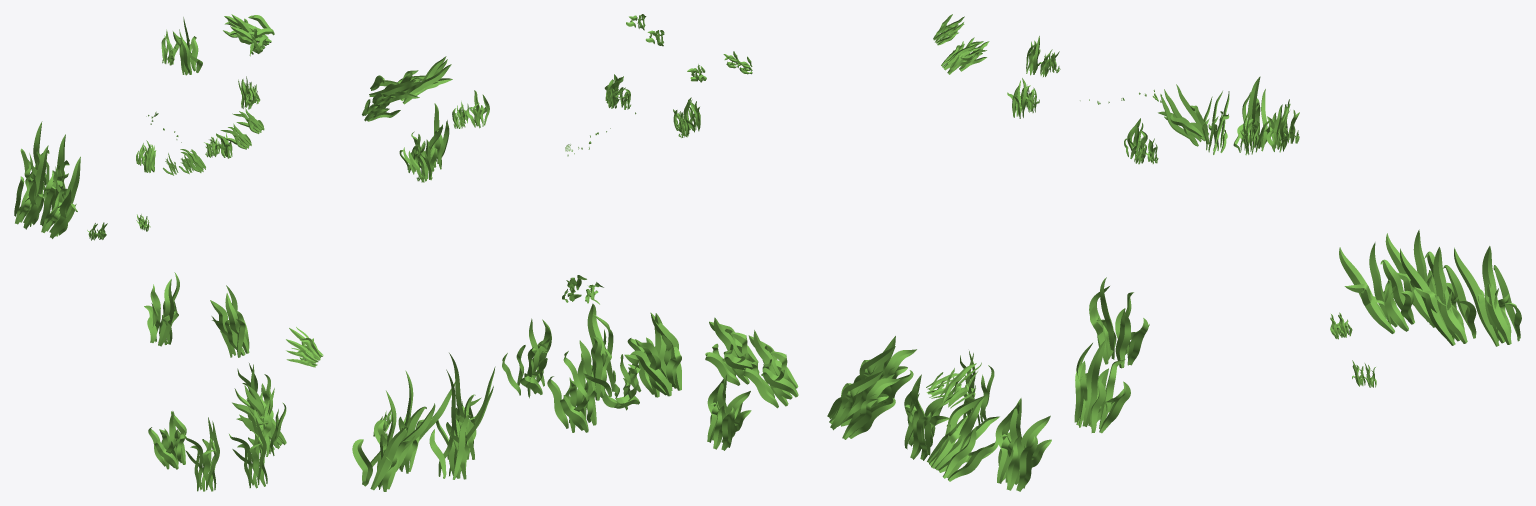
Rendered from PLANTAS.fbx.
3 renders of one model, left to right at view 1: azimuth 30°, elevation 25°; view 2: azimuth 150°, elevation 25°; view 3: azimuth 270°, elevation 25°, orthographic. The views are drawn at different scales.
Visible parts, largest first — view 1: planta.054, planta.048, planta.049, planta.055, planta.069, planta.050, planta.068, planta.051, planta.047, planta.041, planta.052, planta.061 (+5 smaller); view 2: planta.051, planta.053, planta.049, planta.068, planta.055, planta.050, planta.069, planta.046, planta.048, planta.052, planta.054, planta.047 (+5 smaller); view 3: planta.052, planta.048, planta.047, planta.054, planta.046, planta.053, planta.050, planta.049, planta.051, planta.055, planta.068, planta.041 (+4 smaller).
Part boxes in pixels (x1,y1,x2,y2): planta.054: (40, 156, 80, 238); planta.048: (210, 285, 249, 357); planta.049: (144, 272, 179, 346); planta.055: (14, 145, 48, 229); planta.069: (148, 411, 186, 469); planta.050: (229, 413, 267, 488); planta.068: (184, 417, 219, 491); planta.051: (254, 388, 286, 456); planta.047: (232, 385, 286, 451); planta.041: (173, 17, 202, 75); planta.052: (43, 134, 69, 209); planta.061: (224, 14, 274, 45); planta.051: (627, 312, 681, 397); planta.053: (352, 390, 435, 491); planta.049: (563, 303, 614, 400); planta.068: (743, 330, 798, 408); planta.055: (429, 369, 493, 479); planta.050: (705, 317, 759, 385); planta.069: (707, 374, 751, 450); planta.046: (547, 353, 596, 432); planta.048: (502, 318, 551, 398); planta.052: (374, 370, 455, 473); planta.054: (436, 353, 495, 459); planta.047: (602, 354, 641, 410); planta.052: (1400, 247, 1476, 345); planta.048: (1074, 340, 1130, 433); planta.047: (927, 395, 999, 481); planta.054: (1339, 242, 1414, 333); planta.046: (995, 398, 1051, 491); planta.053: (1454, 246, 1521, 346); planta.050: (827, 361, 900, 439); planta.049: (1089, 277, 1149, 368); planta.051: (904, 374, 949, 460); planta.055: (1385, 229, 1456, 327); planta.068: (853, 336, 916, 405); planta.041: (1237, 76, 1274, 152).
Bounding box in the file's own units: 21933 × 33128 × 48249.
